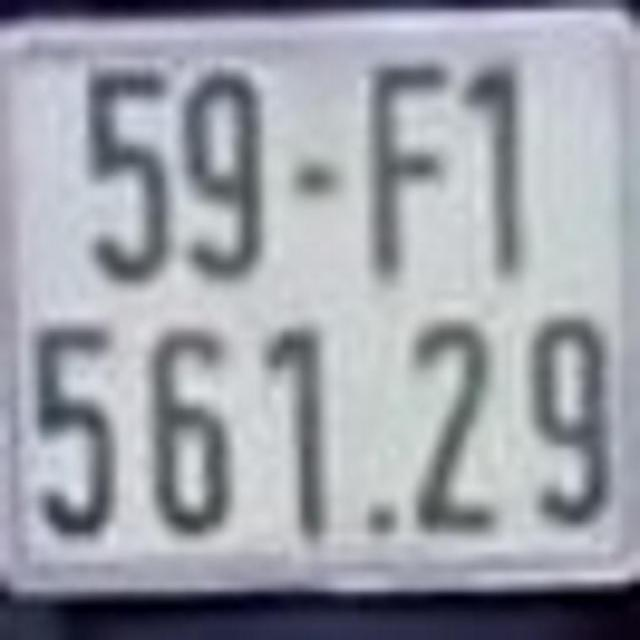1: (256, 314, 339, 544), (456, 60, 528, 278)
2: (404, 312, 494, 535)
5: (29, 322, 118, 537), (84, 64, 171, 283)
6: (144, 328, 233, 537)
9: (177, 63, 265, 283), (528, 308, 612, 526)
F: (361, 61, 450, 274)
